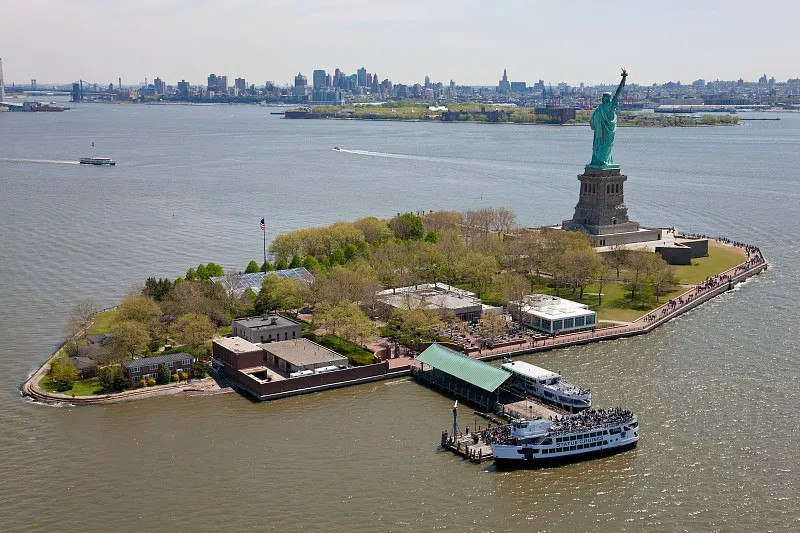SL: (572, 65, 629, 224)
